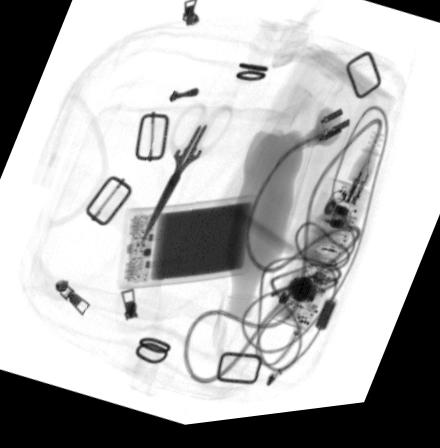Powerbank: (114, 201, 254, 295)
Scissors: (136, 105, 232, 251)
